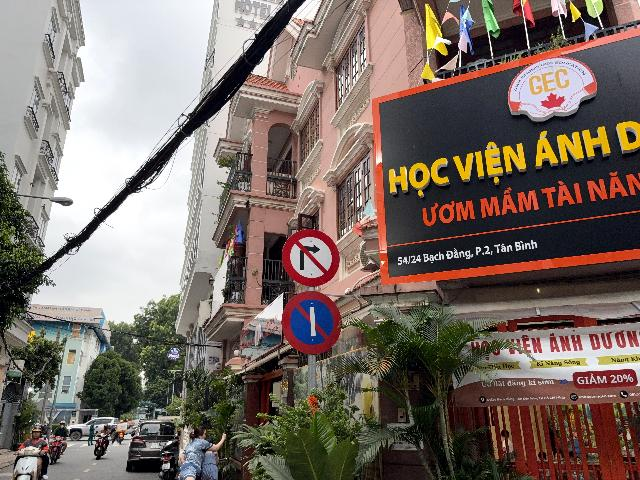cam-do-xe-ngay-le: (282, 290, 342, 354)
cam-re-phai: (282, 228, 340, 286)
